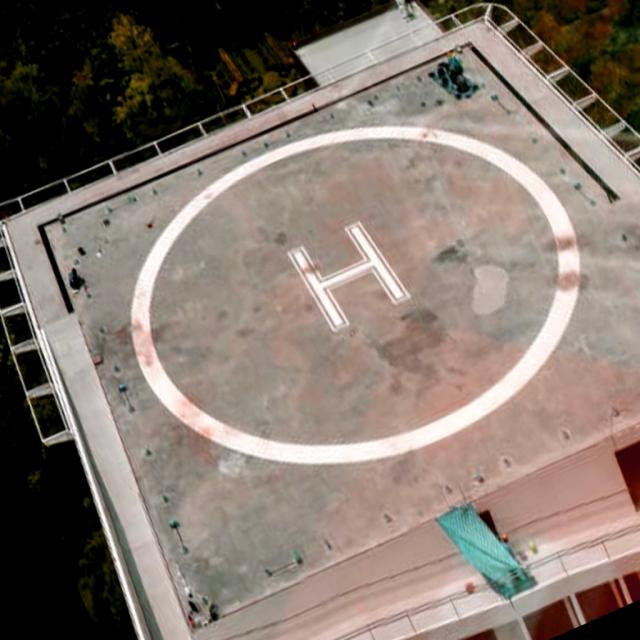helipad: (124, 118, 585, 470)
